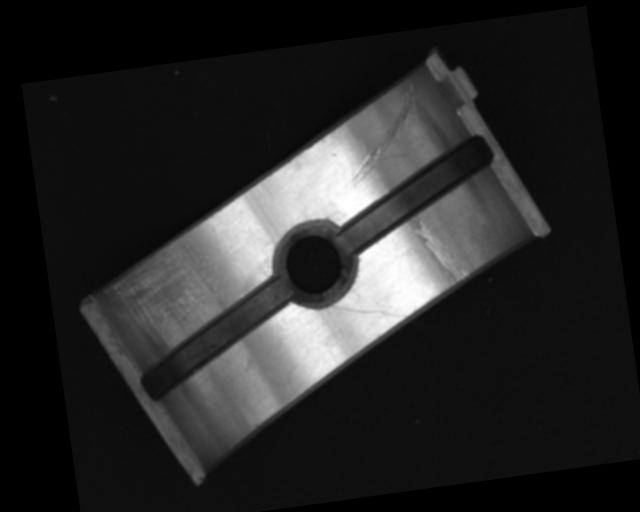gap: (129, 275, 302, 401), (330, 136, 503, 253)
hole: (266, 215, 364, 314)
nick: (339, 80, 426, 184), (411, 211, 470, 289), (329, 295, 408, 328)
scratch: (93, 230, 235, 357)
